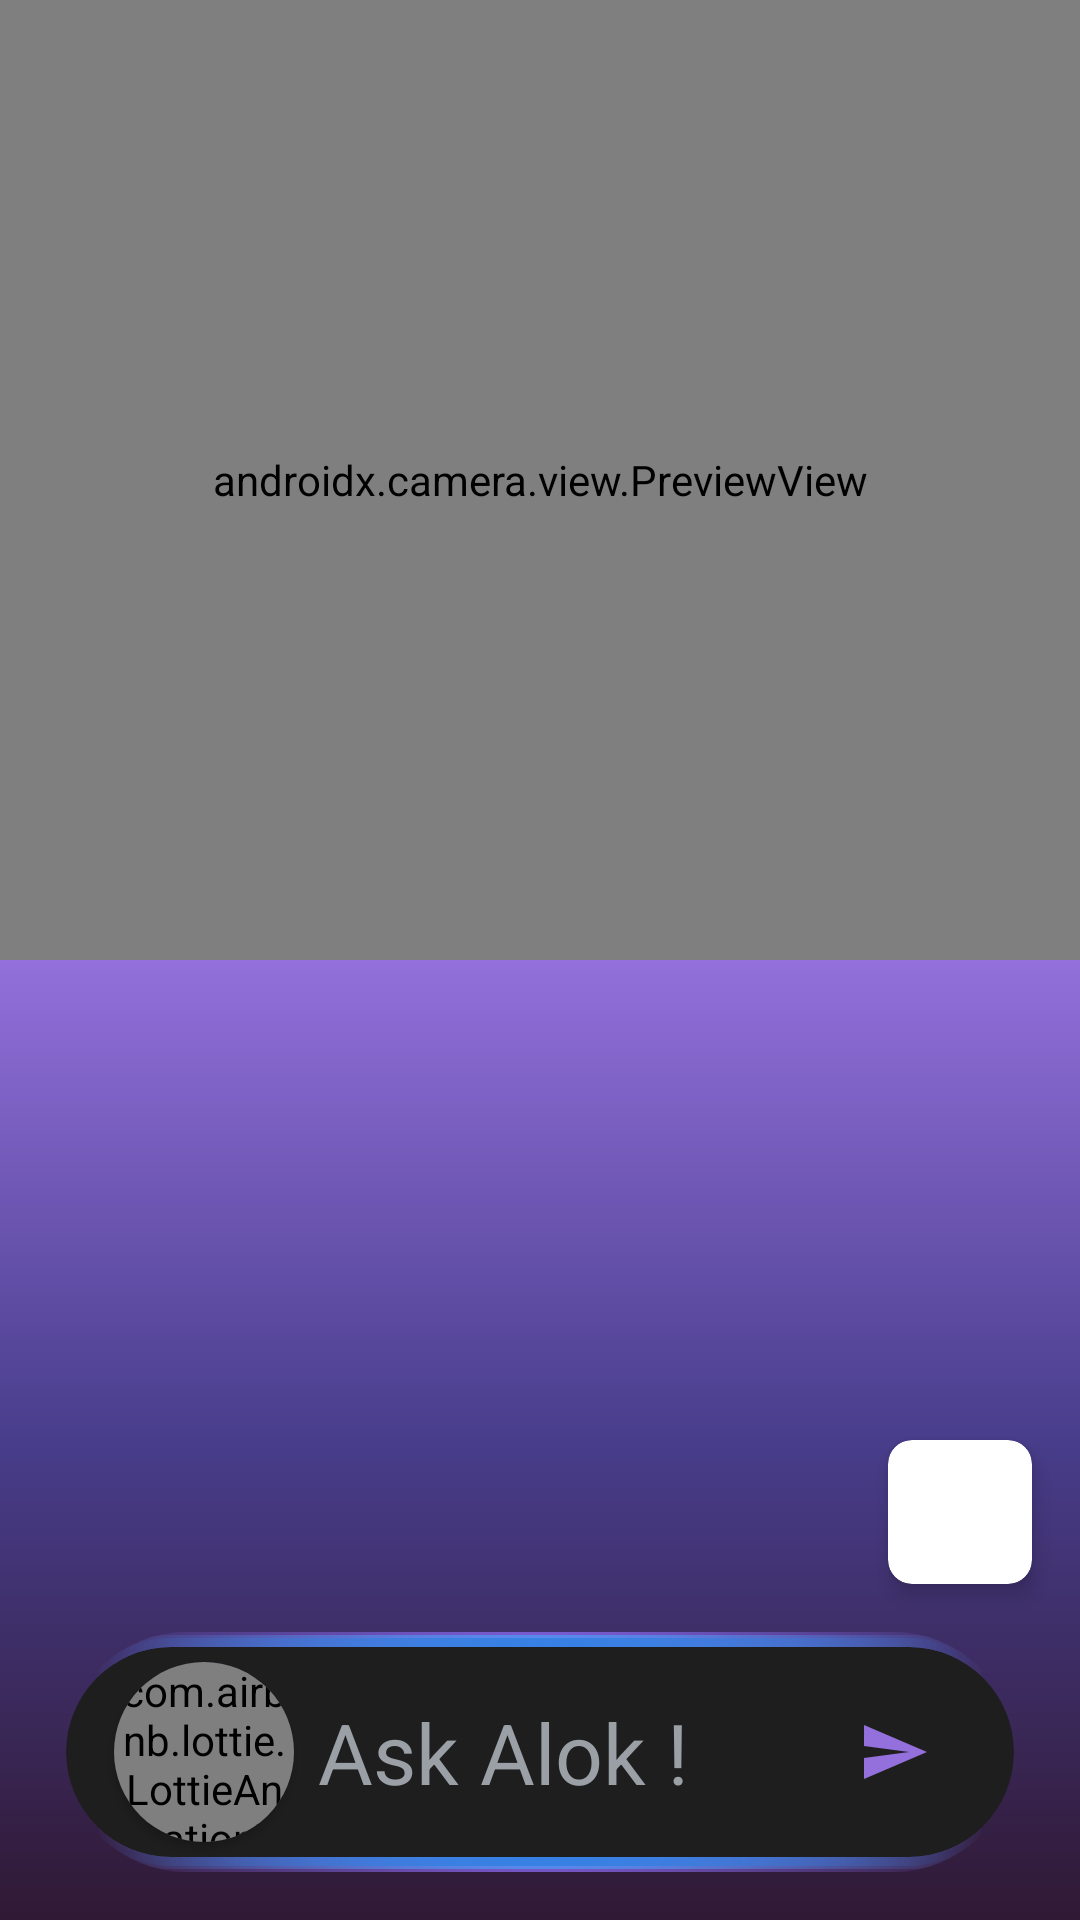

Screen size 1080×1920. Icon name, then its center in pixels as (x,y):
send: (895,1752)
